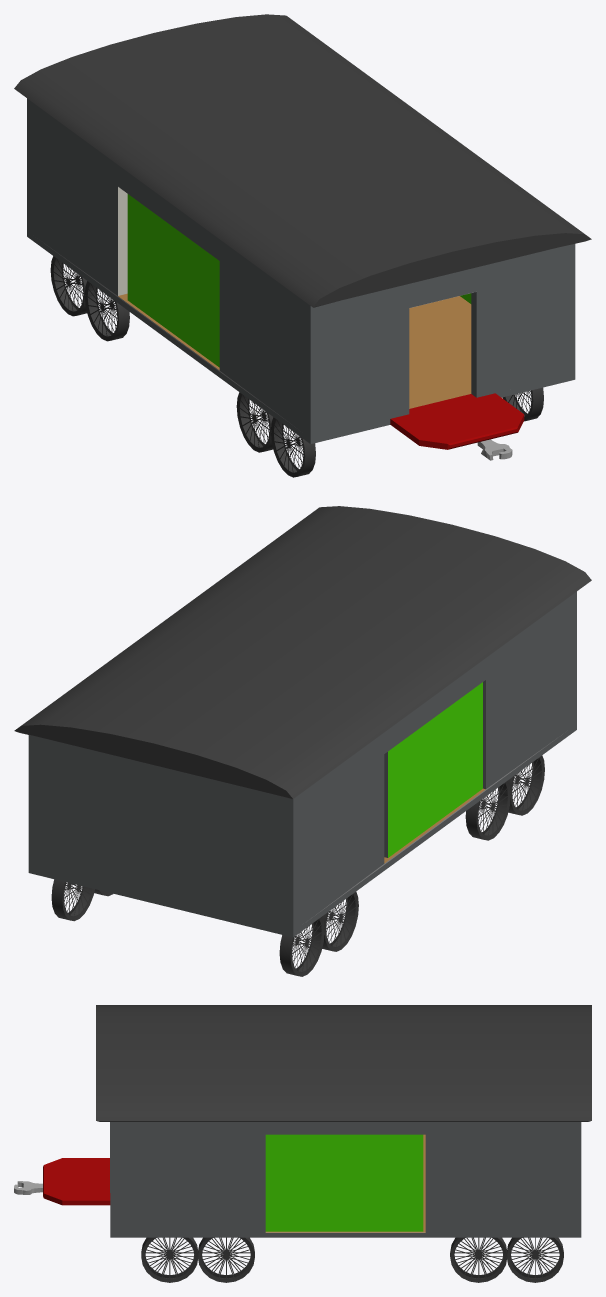
Rendered from poor-car.fbx.
3 views of the same model, one above another, from view 1: azimuth 30°, elevation 25°; view 2: azimuth 150°, elevation 25°; view 3: azimuth 270°, elevation 25° (orthographic). The views are drawn at different scales.
Visible parts, largest first — view 1: Roof, Poor_Car, Wheel13, Wheel14, Wheel12, Wheel15, Wheel8; view 2: Roof, Poor_Car, Wheel12, Wheel15, Wheel13, Wheel14, Wheel10; view 3: Roof, Poor_Car, Wheel11, Wheel8, Wheel9, Wheel10.
Boxes of the visible parts, box(x1,y1,x2,y2) form: Roof: box(14, 14, 591, 307); Poor_Car: box(27, 98, 575, 449); Wheel13: box(84, 281, 129, 341); Wheel14: box(270, 417, 315, 477); Wheel12: box(50, 256, 95, 316); Wheel15: box(236, 392, 281, 452); Wheel8: box(502, 387, 543, 421); Roof: box(14, 506, 591, 799); Poor_Car: box(28, 591, 576, 937); Wheel12: box(279, 916, 324, 976); Wheel15: box(465, 780, 510, 840); Wheel13: box(313, 892, 358, 951); Wheel14: box(500, 755, 544, 815); Wheel10: box(51, 879, 94, 921); Roof: box(96, 1005, 591, 1121); Poor_Car: box(43, 1122, 581, 1237); Wheel11: box(450, 1237, 507, 1282); Wheel8: box(141, 1237, 198, 1282); Wheel9: box(198, 1237, 254, 1282); Wheel10: box(506, 1237, 563, 1282).
Bounding box in the file's own units: 7.39 × 5.73 × 15.95.
